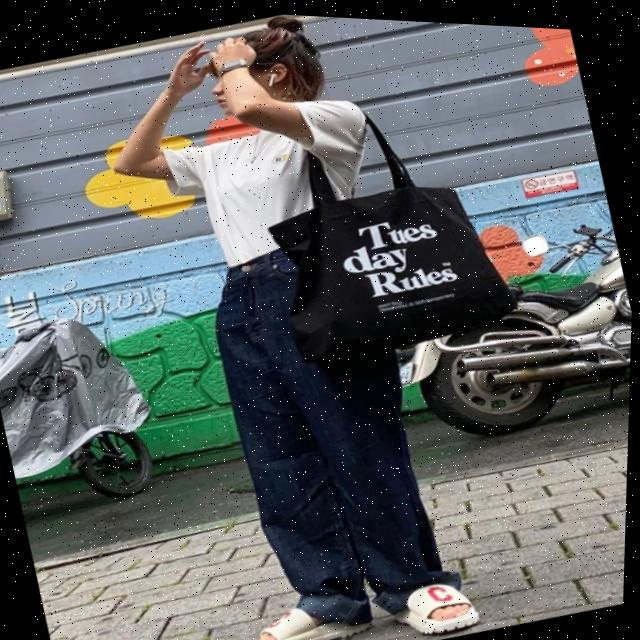ecobag: (226, 69, 537, 378)
